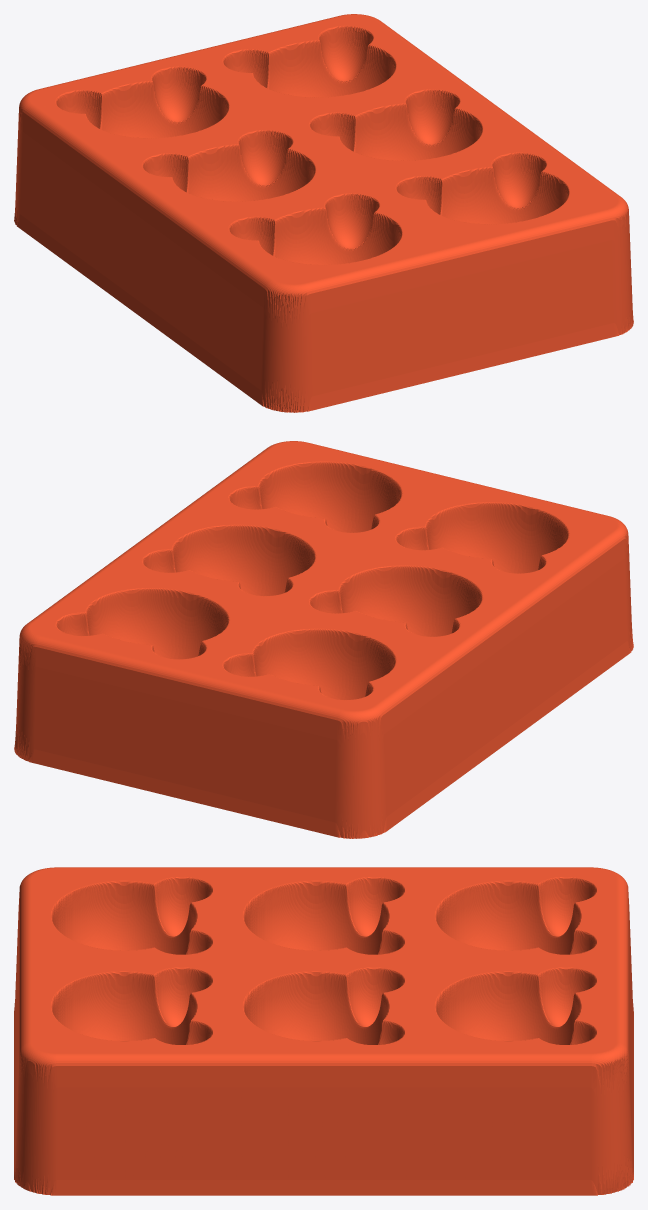
The model's file is mold.glb.
The picture shows the model from 3 angles, top to bottom: view 1: azimuth 30°, elevation 25°; view 2: azimuth 150°, elevation 25°; view 3: azimuth 270°, elevation 25°; orthographic projection. The views are drawn at different scales.
Parts seen in each view (by area): view 1: geometry_0; view 2: geometry_0; view 3: geometry_0.
Boxes of the visible parts, bbox=[...] form: geometry_0: bbox=[14, 14, 633, 412]; geometry_0: bbox=[14, 441, 633, 838]; geometry_0: bbox=[14, 867, 633, 1195].
Bounding box in the file's own units: 0.0996 × 0.0314 × 0.1308.
